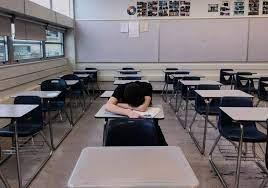sleep: (104, 81, 153, 118)
